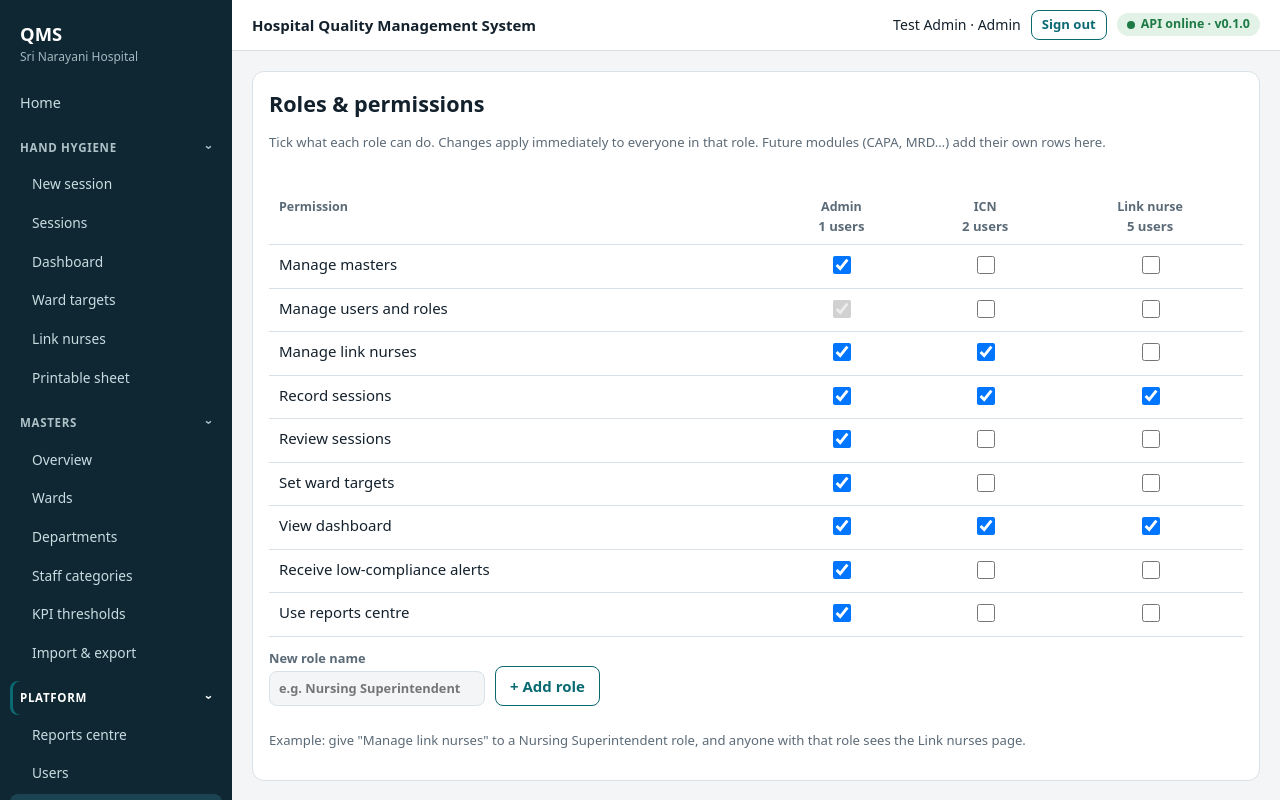
Test case: Roles page › adds a role and requires a name
Expected: the column heading "Manage masters" is shown, [269,245,770,288]
Click the button "+ Add role": [548, 686] box [495,666,600,706]
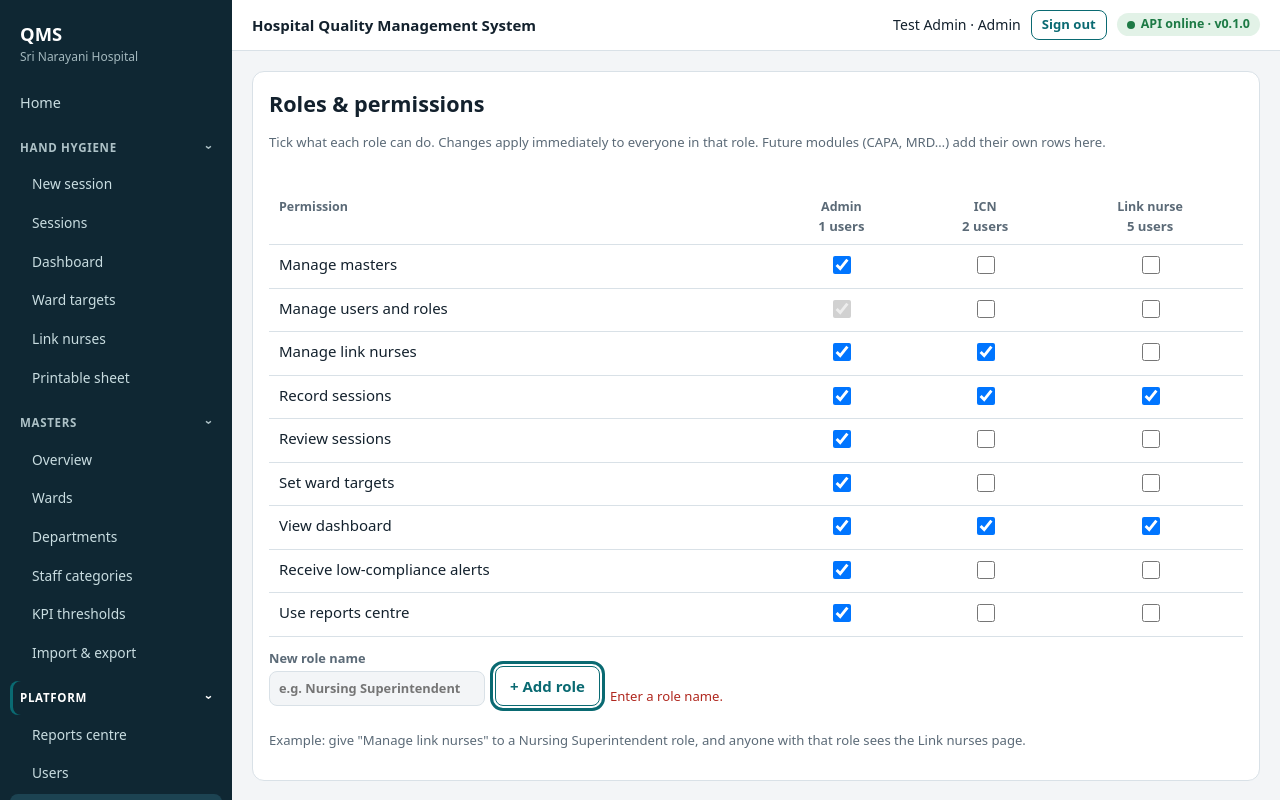
Expected: the text "Enter a role name." is shown, [610,687,723,706]
In the field labelled "New role name": [377, 689] box [269,671,485,706], type "Nursing Superintendent"
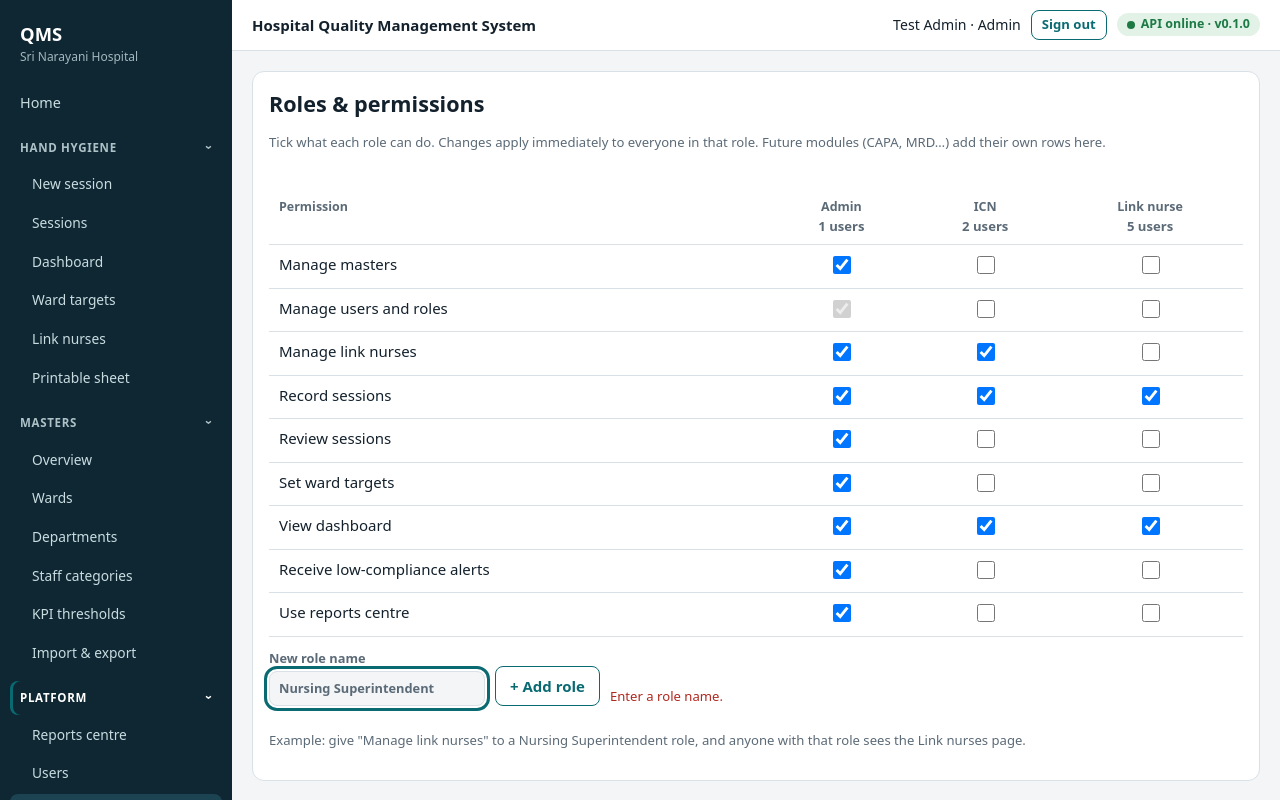
Click the button "+ Add role": [548, 686] box [495,666,600,706]
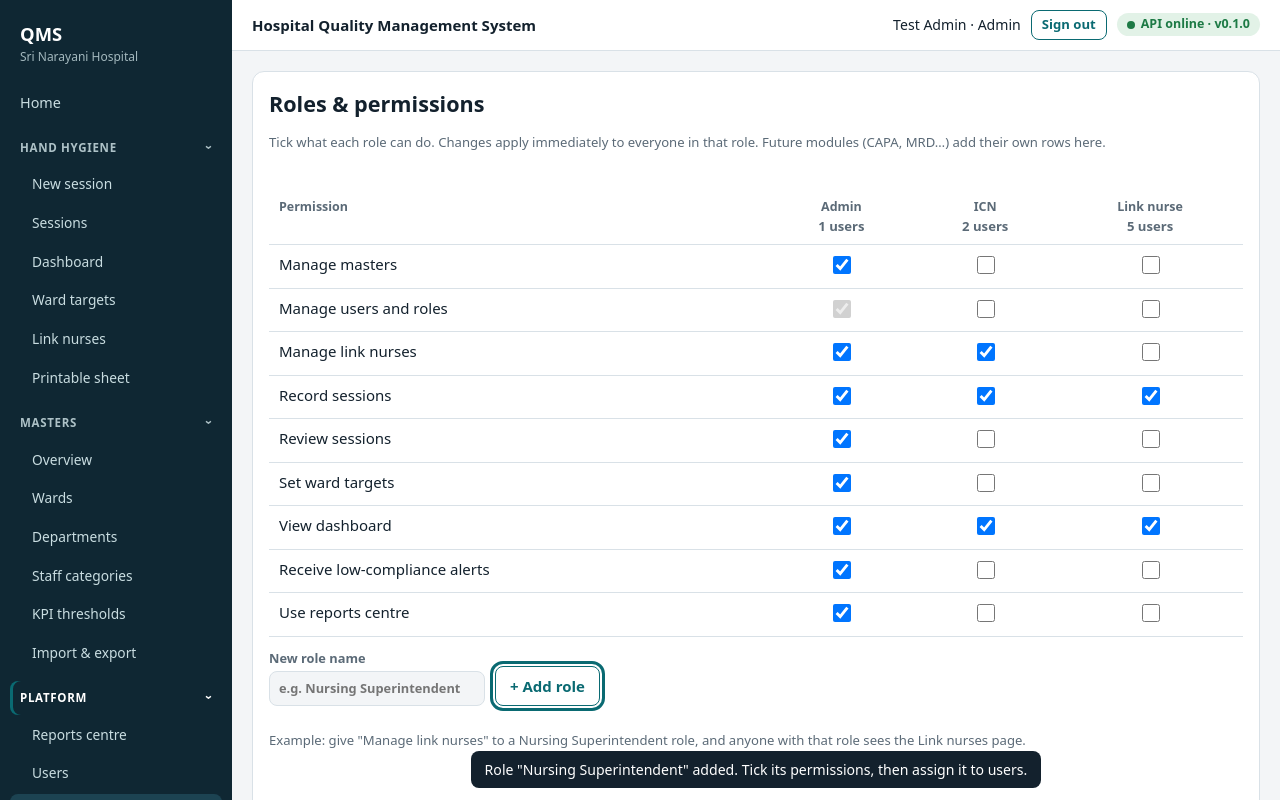
Expected: the text "Role \"Nursing Superintendent\" added" is shown, [485,760,1027,779]
